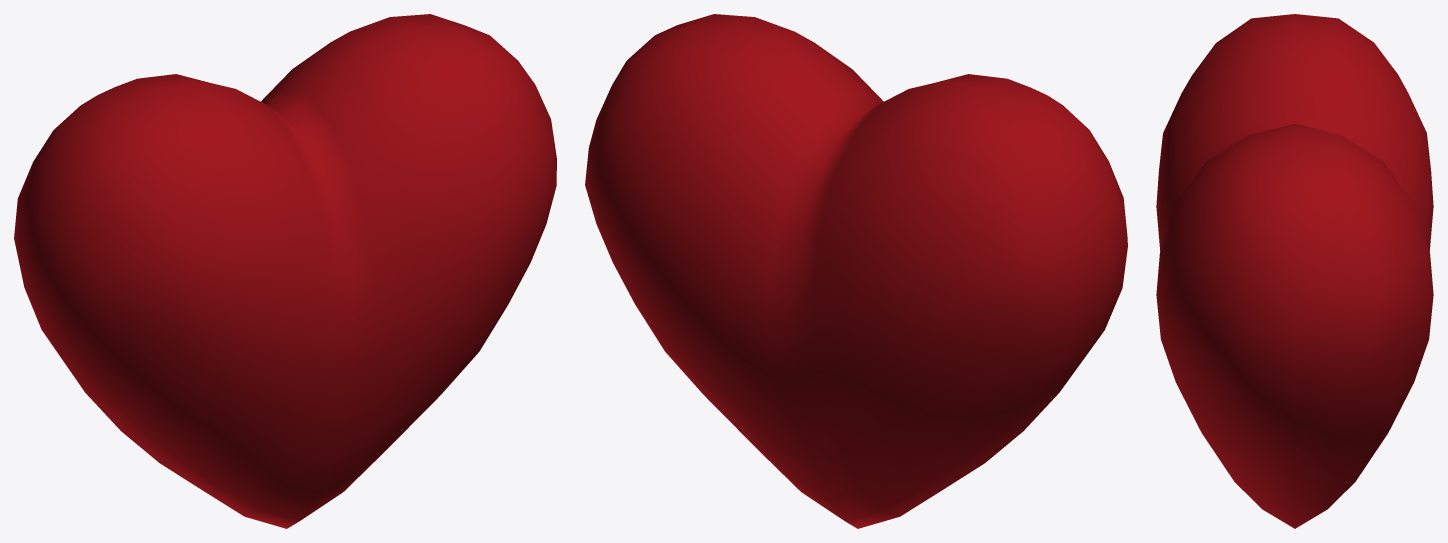
File: reines_36.glb
The picture shows the model from 3 angles, left to right: view 1: azimuth 30°, elevation 25°; view 2: azimuth 150°, elevation 25°; view 3: azimuth 270°, elevation 25°; orthographic projection. The views are drawn at different scales.
Visible parts, largest first — view 1: Heart; view 2: Heart; view 3: Heart.
Part boxes in pixels (x1=…): Heart: x1=14, y1=14, x2=556, y2=528; Heart: x1=585, y1=14, x2=1127, y2=528; Heart: x1=1156, y1=14, x2=1433, y2=528.
Bounding box in the file's own units: 6.54 × 5.81 × 3.27.
